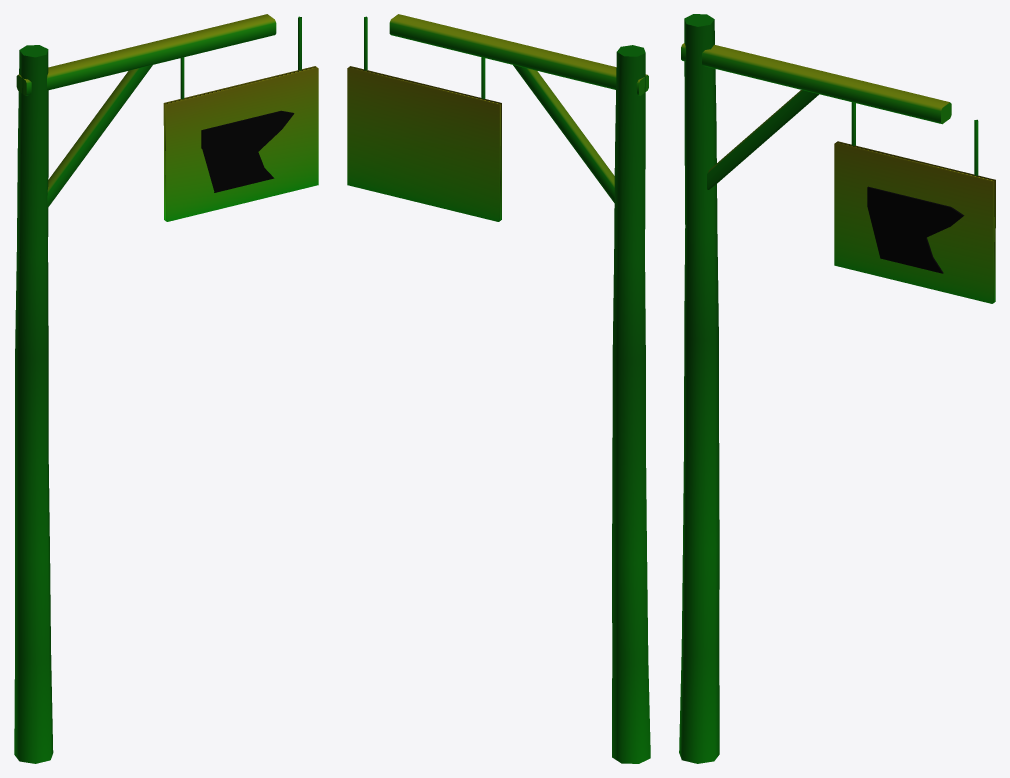
Rendered from shop_sign_forge.glb.
3 renders of one model, left to right at view 1: azimuth 30°, elevation 25°; view 2: azimuth 150°, elevation 25°; view 3: azimuth 330°, elevation 25°, orthographic. The views are drawn at different scales.
Parts seen in each view (by area): view 1: shop_sign_forge; view 2: shop_sign_forge; view 3: shop_sign_forge.
Part boxes in pixels (left/top/right/bottom): shop_sign_forge: left=14, top=14, right=318, bottom=763; shop_sign_forge: left=347, top=14, right=650, bottom=763; shop_sign_forge: left=679, top=14, right=995, bottom=763.
Size of what is drawn, in the model's own units: 1.2 by 2.7 by 0.1373.
